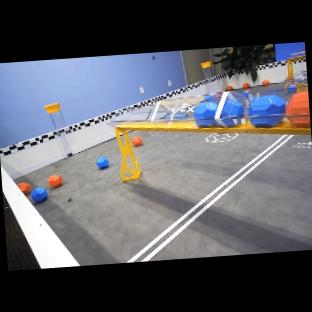V5_BLUE: (248, 95, 285, 115), (194, 101, 221, 126), (221, 99, 243, 117), (249, 117, 280, 127), (30, 187, 47, 202), (96, 156, 108, 169), (221, 119, 233, 127), (287, 84, 296, 91), (241, 90, 249, 96)
V5_RED: (285, 91, 309, 114), (288, 116, 310, 127), (47, 174, 62, 188), (17, 182, 30, 195), (132, 136, 141, 146), (243, 82, 251, 92), (262, 79, 269, 86), (226, 85, 233, 90)
blueingoal: (193, 95, 285, 127)
redingoal: (285, 91, 309, 114), (287, 116, 310, 127)
